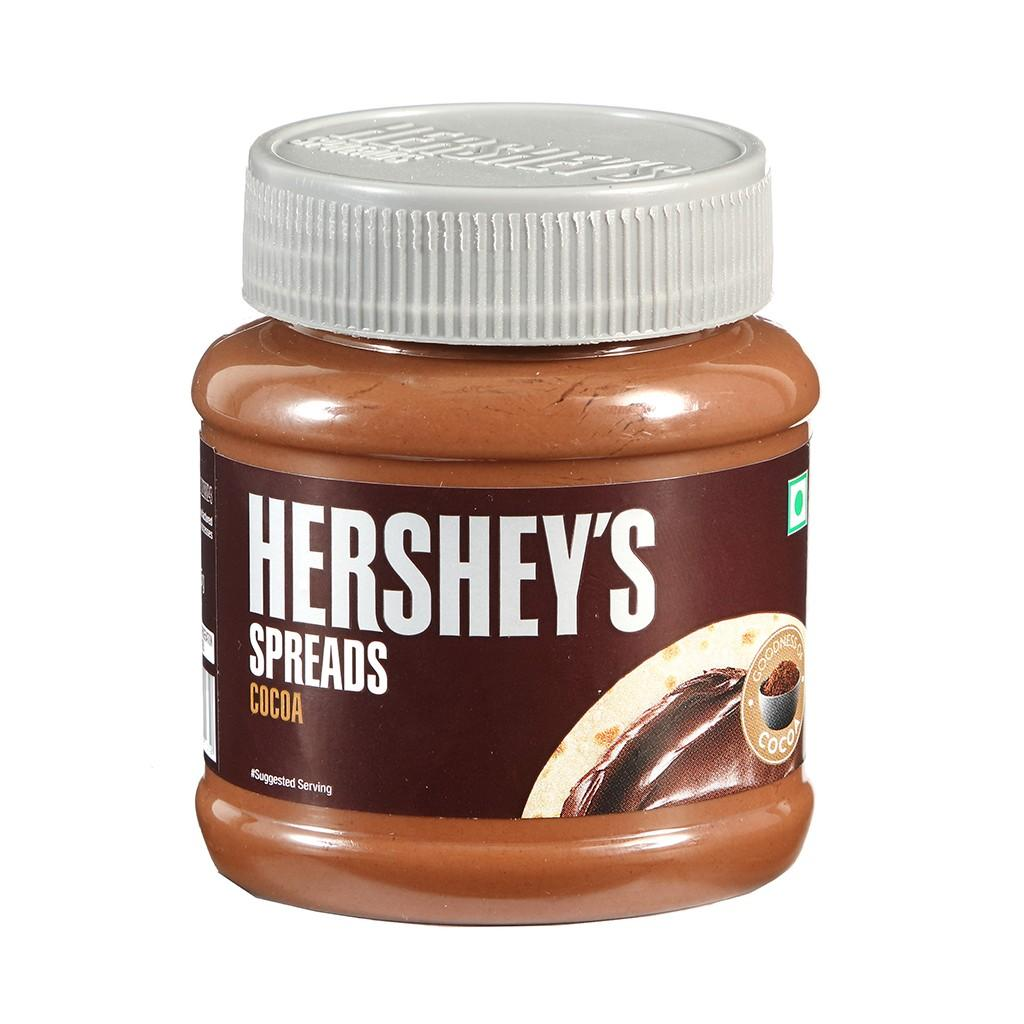Hershey-s: (192, 96, 820, 933)
